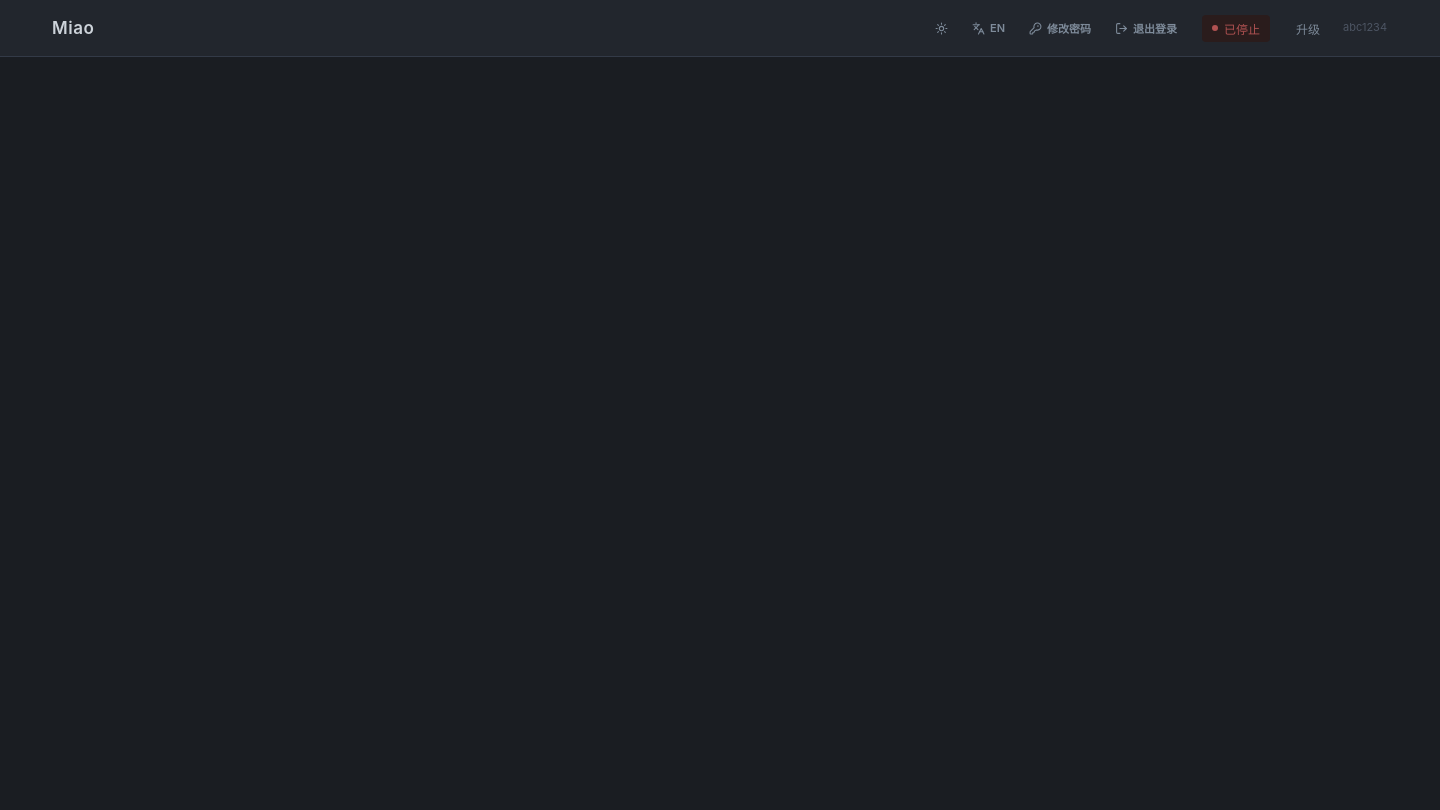
i18n and theme prefs › persists theme and locale from the top bar
Expected: the button "修改密码" is shown, 1020,14 -> 1100,42
Expected: the button "退出登录" is shown, 1106,14 -> 1186,42
What coordinates should you click on to do the following:
click the button named "切换到浅色"
I would click on:
 (942, 28)
Its box is 926,14 -> 957,42.
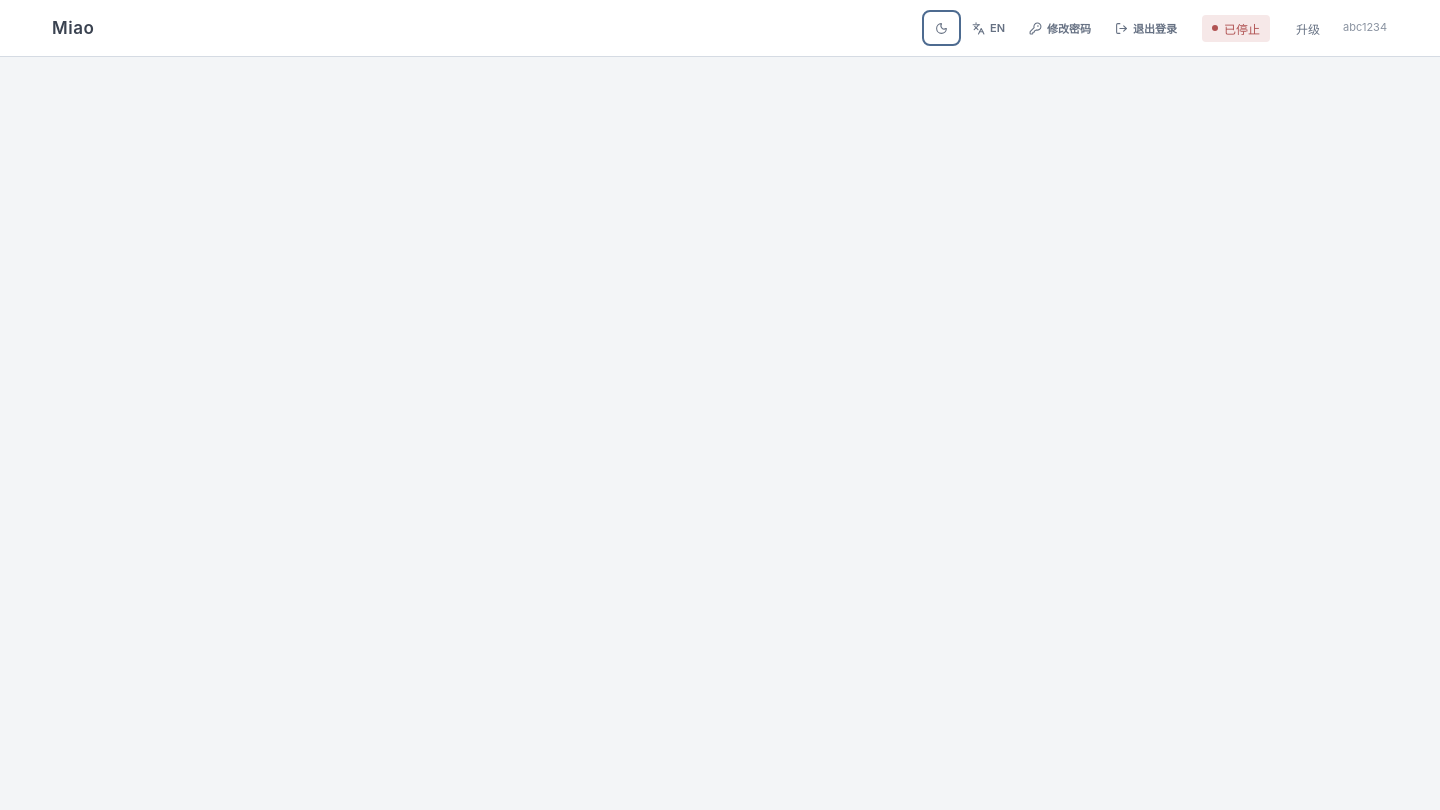
What coordinates should you click on to do the following:
click the button named "Switch to English"
I would click on:
 (988, 28)
Its box is 963,14 -> 1014,42.
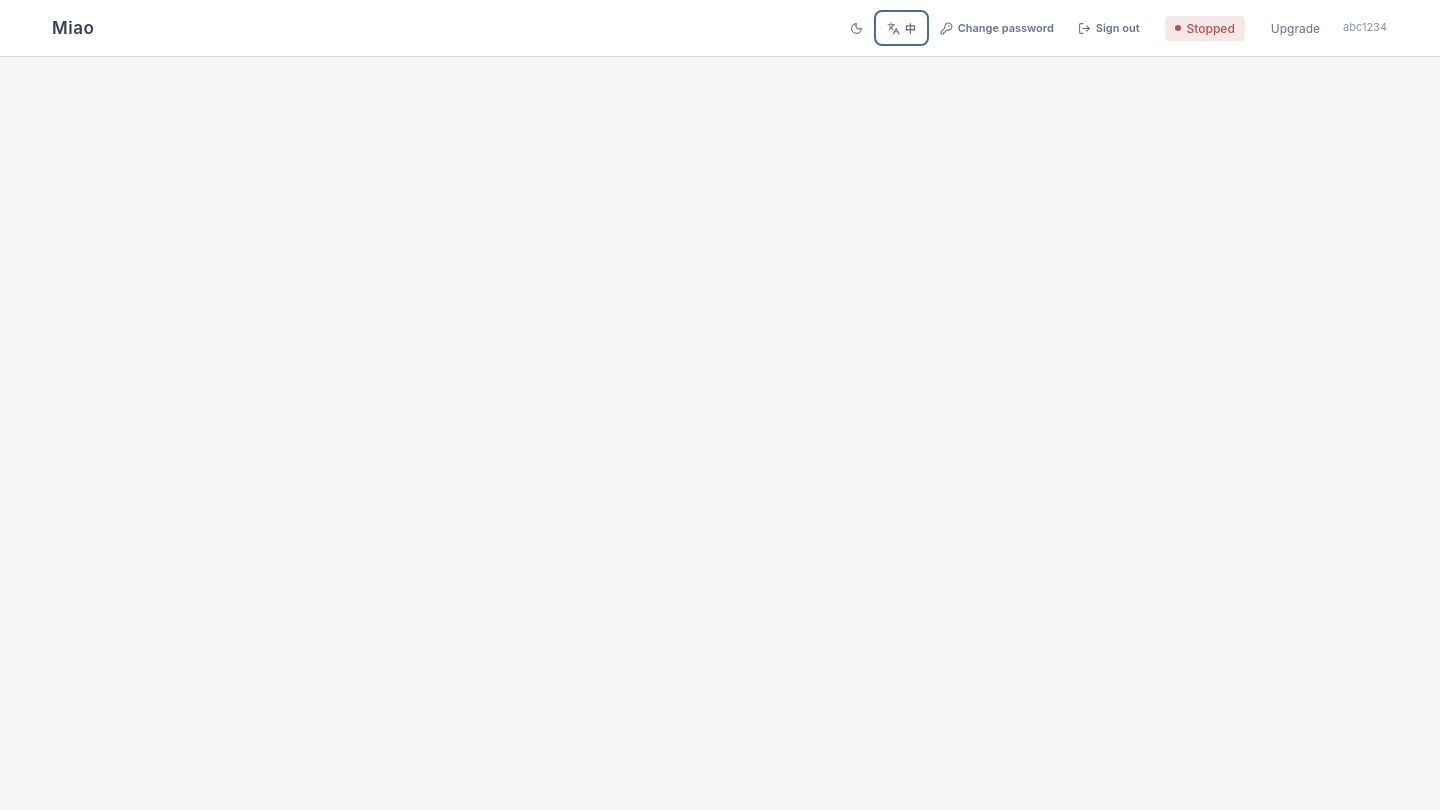
Now the button "Change password" is shown, box 931,14 -> 1063,42
Now the button "Sign out" is shown, box 1069,14 -> 1148,42
Now the button "Upgrade" is shown, box 1261,16 -> 1330,40
